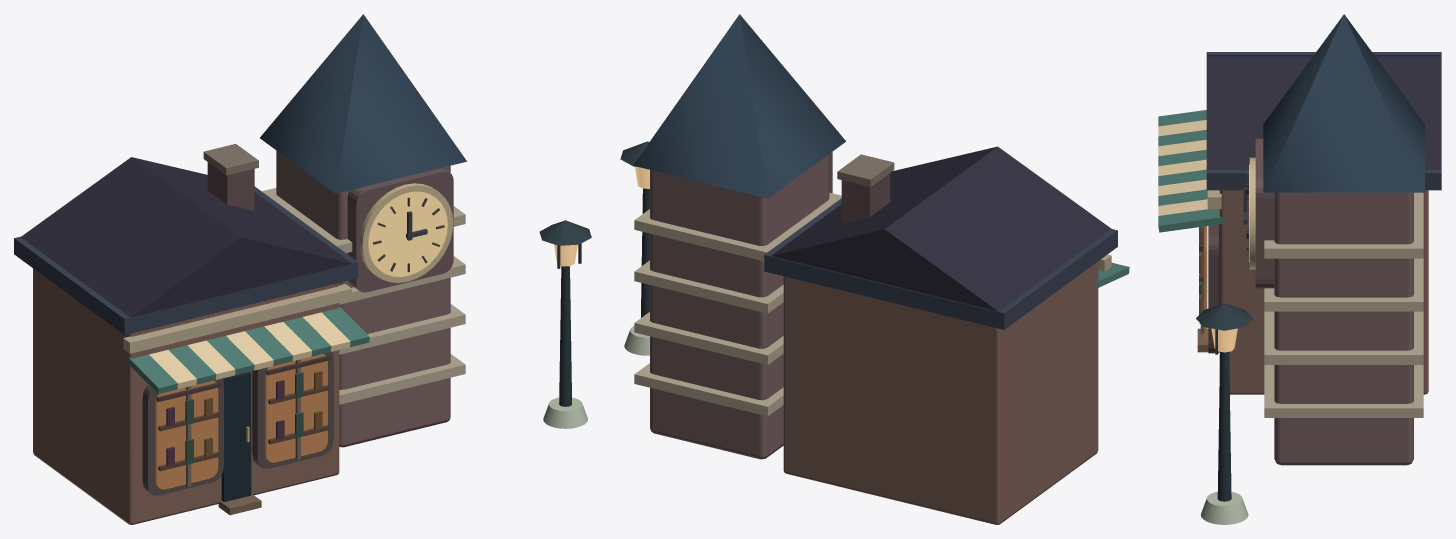
The model's file is oldtown-map.glb.
The picture shows the model from 3 angles, left to right: view 1: azimuth 30°, elevation 25°; view 2: azimuth 150°, elevation 25°; view 3: azimuth 270°, elevation 25°; orthographic projection. The views are drawn at different scales.
Visible parts, largest first — view 1: shopfront, place-static; view 2: shopfront, place-static; view 3: place-static, shopfront.
Boxes of the visible parts, bbox=[...] form: shopfront: bbox=[14, 144, 369, 524]; place-static: bbox=[260, 14, 591, 447]; shopfront: bbox=[764, 146, 1129, 524]; place-static: bbox=[620, 14, 845, 459]; place-static: bbox=[1196, 14, 1424, 524]; shopfront: bbox=[1158, 52, 1441, 394].
Size of the model in its own units: 5.83 by 4.73 by 2.85.
